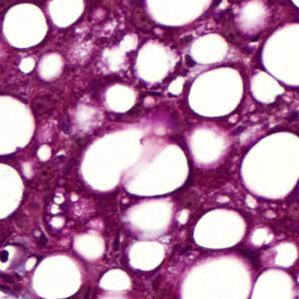steatosis: (241, 127, 299, 200), (188, 67, 244, 118), (193, 206, 245, 254), (30, 253, 83, 299), (2, 3, 44, 50), (0, 160, 26, 225)
